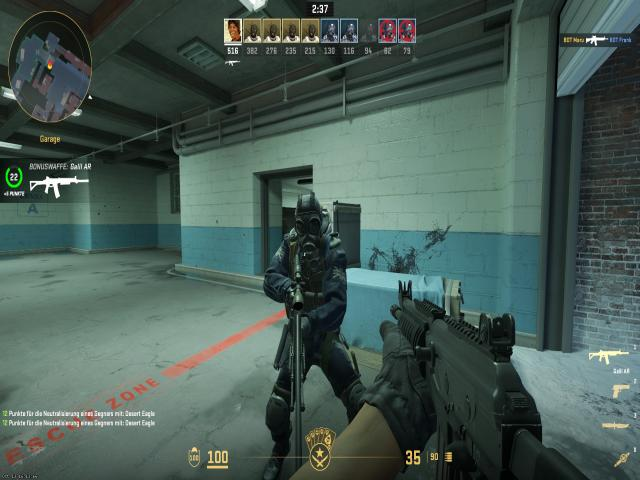CT: (277, 196, 349, 456)
CT-Head: (294, 195, 322, 245)
